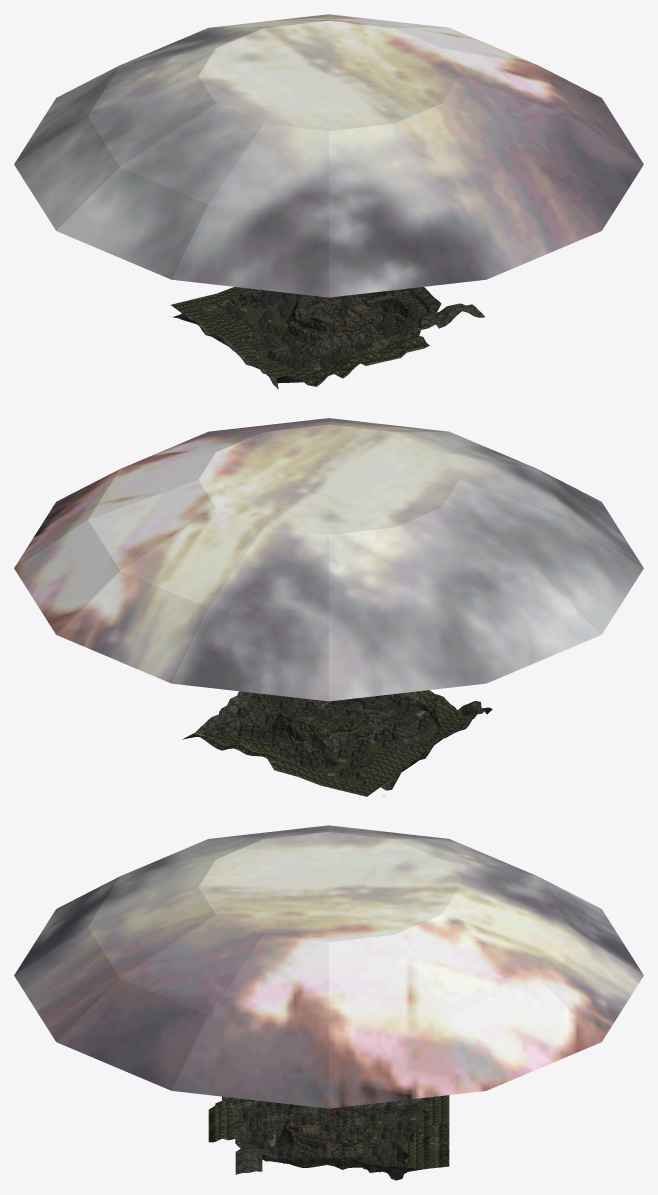
Rendered from recovered_map_mp62.glb.
The picture shows the model from 3 angles, top to bottom: view 1: azimuth 30°, elevation 25°; view 2: azimuth 150°, elevation 25°; view 3: azimuth 270°, elevation 25°; orthographic projection.
Parts seen in each view (by area): view 1: S_sky, W_rockbottom, W_rock, W_treeshrub, W_ground, W_water, W_grass, W_dirtbed, W_leaves1, W_leaf2, W_barrel01; view 2: S_sky, W_rockbottom, W_rock, W_treeshrub, W_ground, W_water, W_grass, W_leaves1, W_dirtbed, W_barrel01, W_leaf2; view 3: S_sky, W_rock, W_rockbottom, W_treeshrub, W_ground, W_grass, W_dirtbed, W_leaves1, W_water, W_barrel01, W_leaf2.
Boxes of the visible parts, bbox=[...] form: S_sky: bbox=[14, 14, 643, 297]; W_rockbottom: bbox=[171, 287, 429, 386]; W_rock: bbox=[173, 287, 484, 389]; W_treeshrub: bbox=[226, 290, 419, 368]; W_ground: bbox=[232, 291, 426, 369]; W_water: bbox=[200, 299, 385, 370]; W_grass: bbox=[232, 291, 421, 369]; W_dirtbed: bbox=[242, 289, 408, 353]; W_leaves1: bbox=[233, 291, 420, 368]; W_leaf2: bbox=[234, 290, 419, 368]; W_barrel01: bbox=[247, 290, 396, 356]; S_sky: bbox=[14, 418, 643, 701]; W_rockbottom: bbox=[182, 690, 468, 796]; W_rock: bbox=[195, 691, 492, 790]; W_treeshrub: bbox=[237, 697, 433, 778]; W_ground: bbox=[228, 694, 419, 774]; W_water: bbox=[279, 711, 438, 786]; W_grass: bbox=[229, 694, 418, 773]; W_leaves1: bbox=[234, 693, 419, 773]; W_dirtbed: bbox=[216, 696, 393, 777]; W_barrel01: bbox=[256, 693, 394, 768]; W_leaf2: bbox=[249, 692, 419, 771]; S_sky: bbox=[14, 825, 643, 1108]; W_rock: bbox=[222, 1096, 430, 1180]; W_rockbottom: bbox=[208, 1095, 449, 1169]; W_treeshrub: bbox=[242, 1101, 420, 1166]; W_ground: bbox=[240, 1104, 422, 1166]; W_grass: bbox=[242, 1104, 419, 1172]; W_dirtbed: bbox=[282, 1108, 404, 1173]; W_leaves1: bbox=[242, 1106, 421, 1172]; W_water: bbox=[239, 1101, 428, 1151]; W_barrel01: bbox=[271, 1106, 398, 1156]; W_leaf2: bbox=[240, 1105, 420, 1166].
Size of what is drawn, in the model's own units: 753 by 336 by 753.
31 materials, 31 textured.
